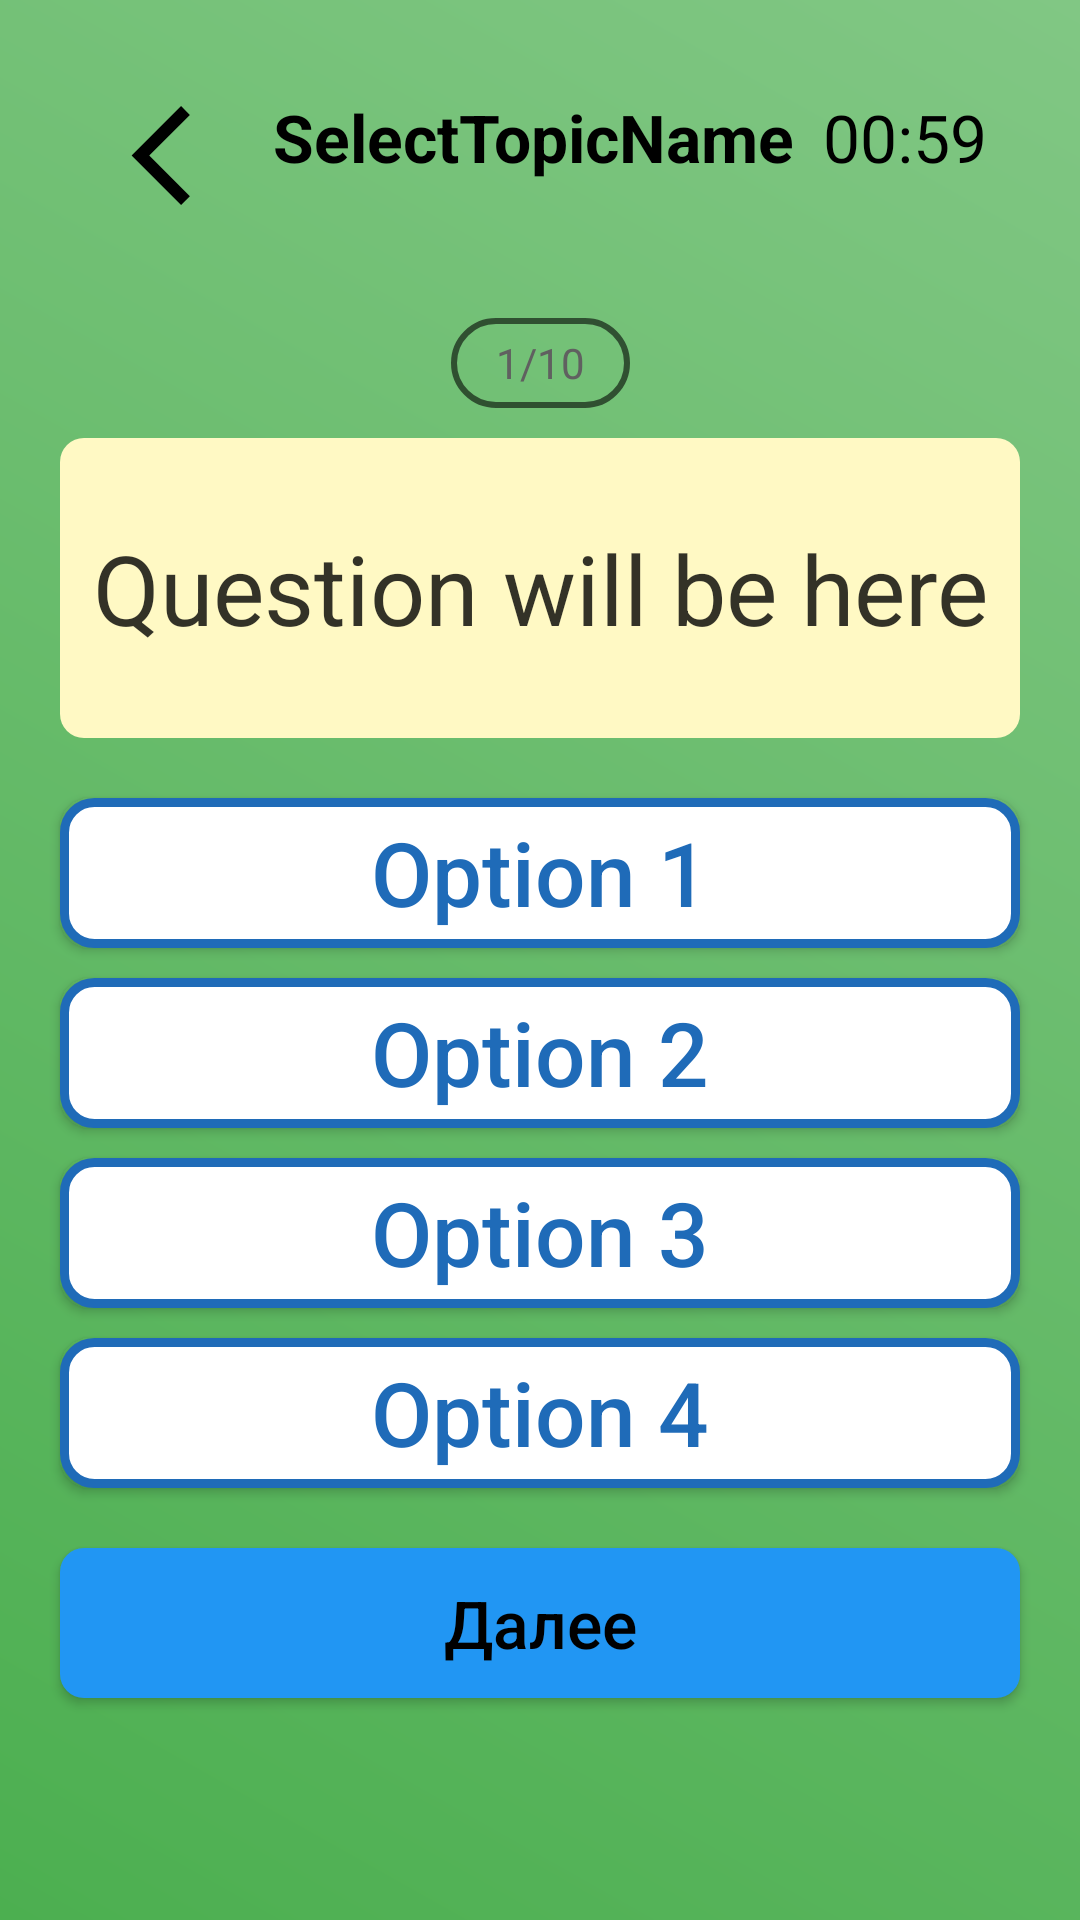

Where to tap for icons on this 1080w x 1920h app screen, as (x,y):
Назад: (160,155)
